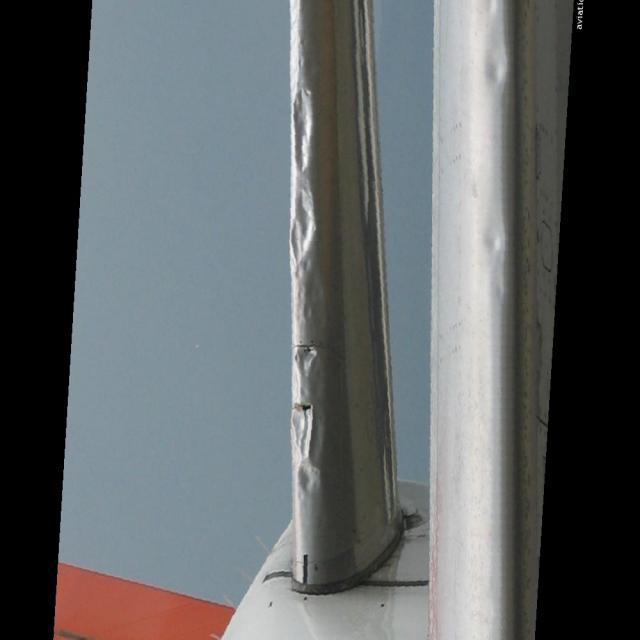dent: (288, 85, 328, 511), (473, 43, 519, 313)
